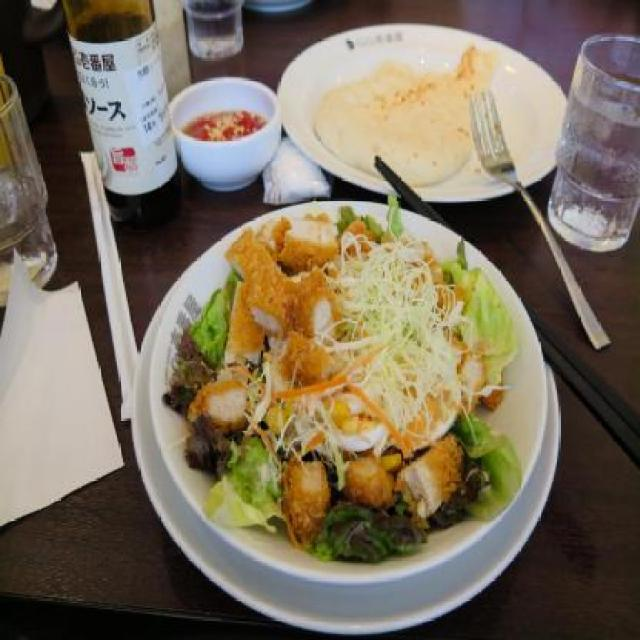Salad: (161, 190, 524, 573)
